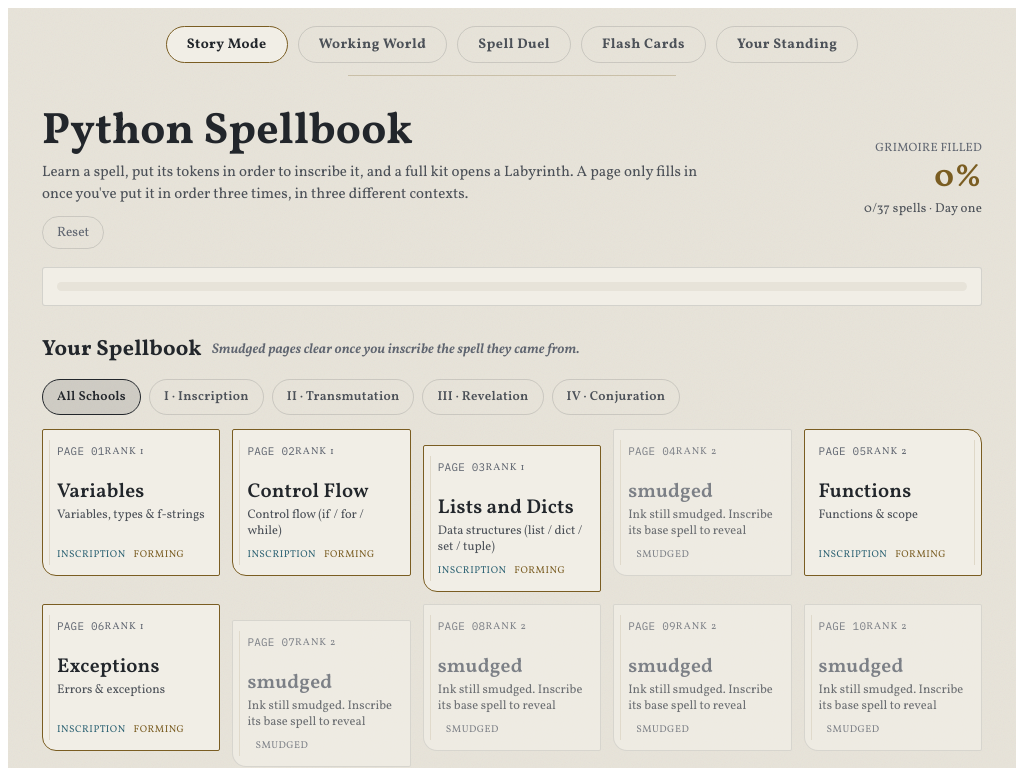
Test: the flash cards › says the deck is empty before anything is inscribed
This screenshot has width=1024, height=768.
Click the button "Flash Cards" at point(644, 44), box [581,26,706,63]
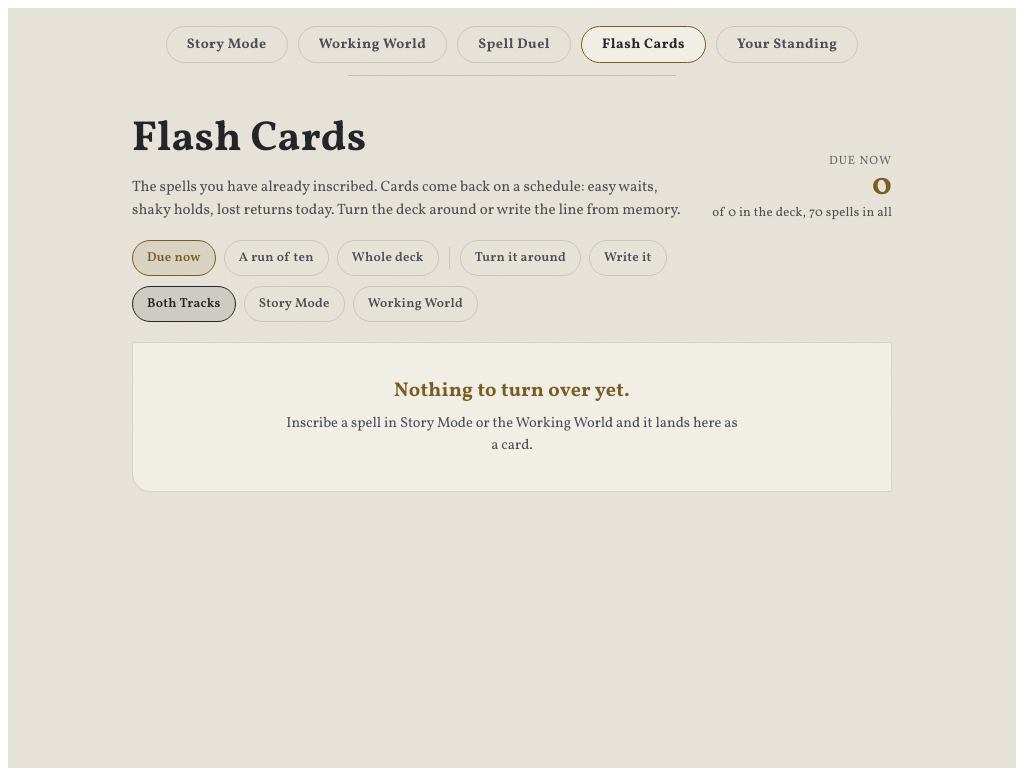
Result: the text "Nothing to turn over yet" is shown at [394,377,630,405]
Result: the text "Inscribe a spell" is shown at [286,413,738,455]
